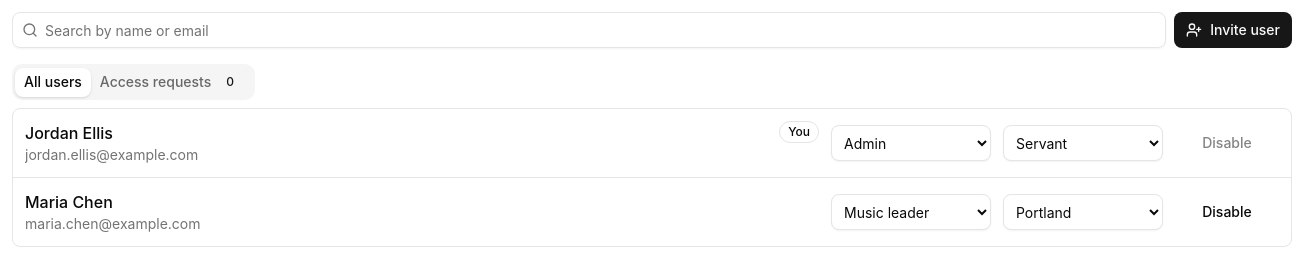
Test: UsersAdmin › opens on all users, with an empty state for requests, when none are pending
Check: the number of list items is 2, box [13, 109, 1291, 178]; [25, 192, 1279, 232]
Click the tab "Access requests 0": (172, 82) [91, 68, 252, 96]
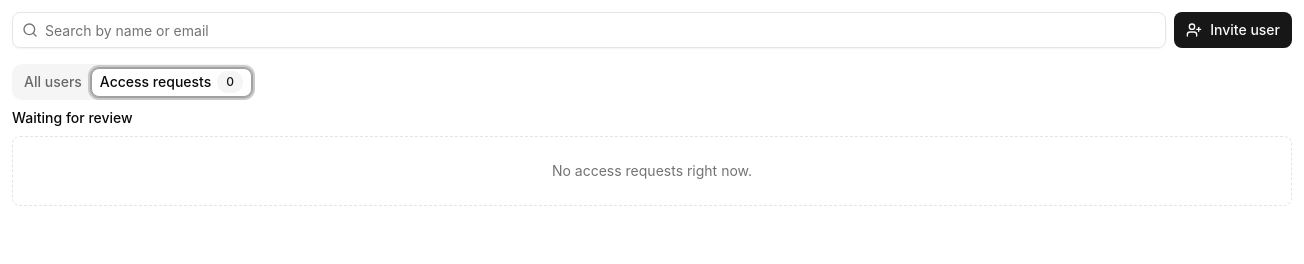
Check: the text "No access requests right now." is shown, box [12, 136, 1292, 206]
